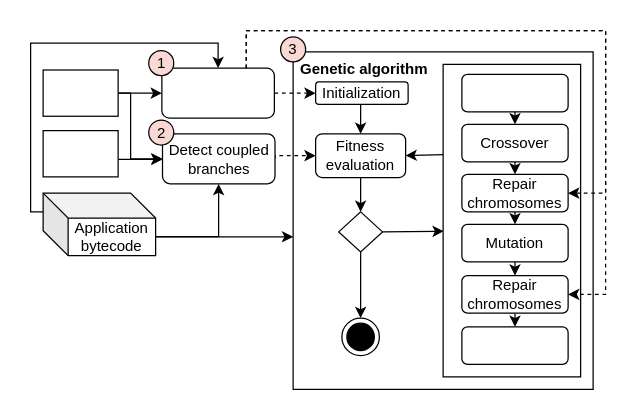
Image size: 638x411. Some labels were removed from this diagram. Each missing label, with the centre of its shape:
"Callee class (E)" belongs at (80,153).
"Caller class (R)" belongs at (80,92).
"Detect covering methods" belongs at (217,92).
"Reinsertion" belongs at (514,345).
"Selection" belongs at (514,92).
